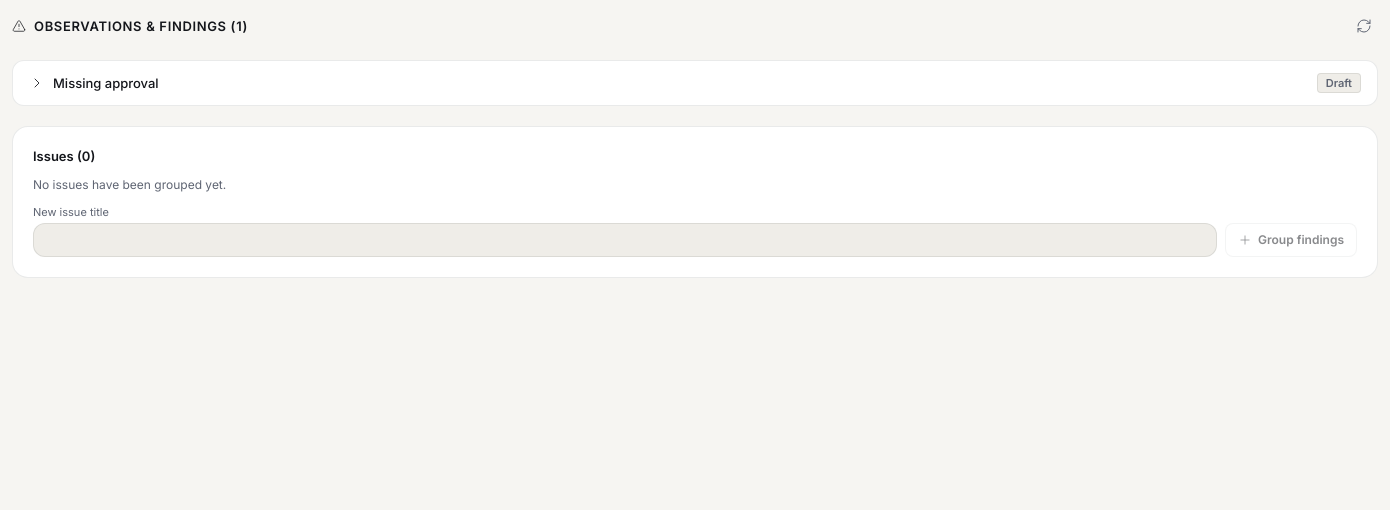
Test case: Phase 5 UI panels (5G) › FindingsPanel › disables promote without the perform_work right
The width and height of the screenshot is (1390, 510).
Click the button "Missing approval draft". click: (106,83)
box: [13,61,1377,105]
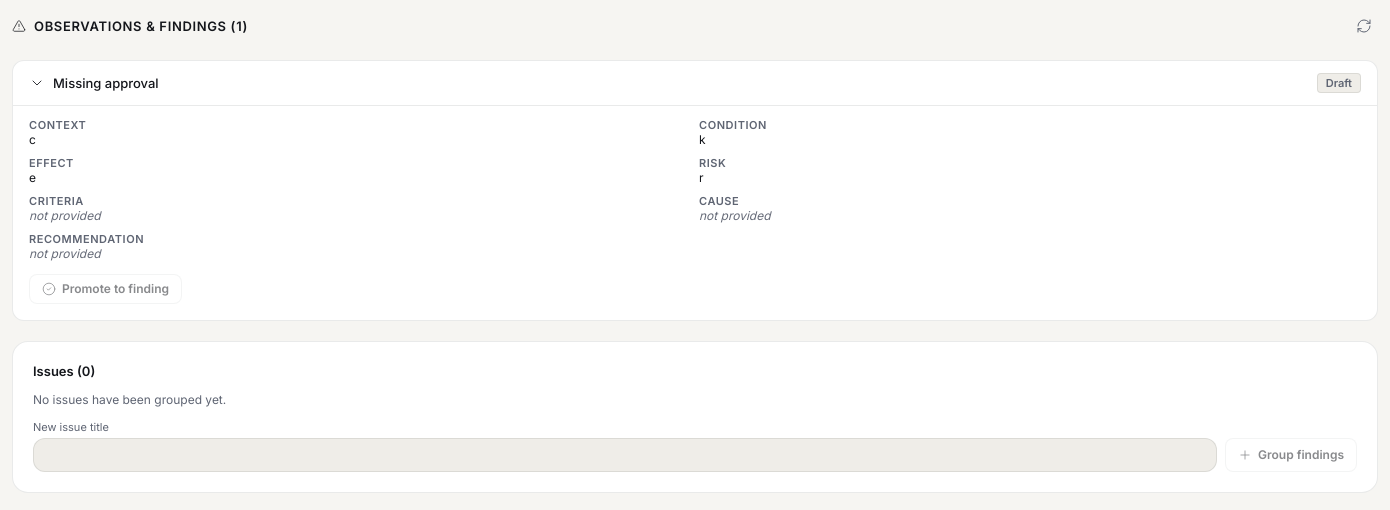
Expected: the button with test id "observation-promote-o1" is disabled, [29,274,182,304]
